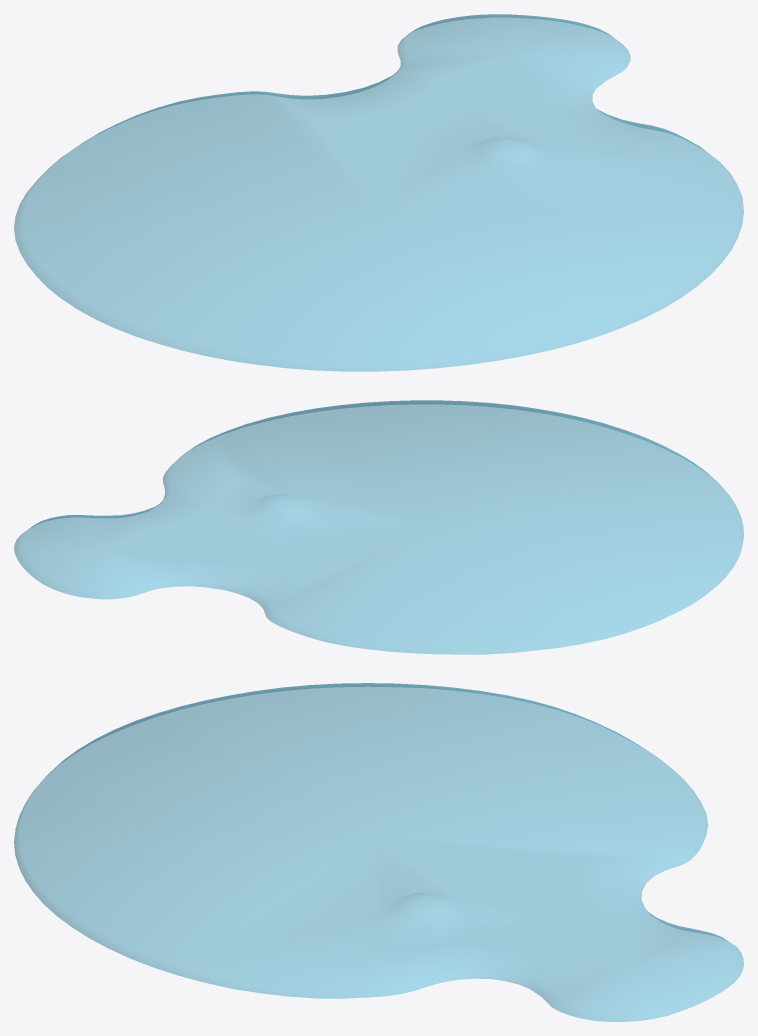
The model's file is IceWater.fbx.
The picture shows the model from 3 angles, top to bottom: view 1: azimuth 30°, elevation 25°; view 2: azimuth 150°, elevation 25°; view 3: azimuth 270°, elevation 25°; orthographic projection. The views are drawn at different scales.
Visible parts, largest first — view 1: IceWater; view 2: IceWater; view 3: IceWater.
Part boxes in pixels (x1,y1,x2,y2): IceWater: [14, 14, 743, 371]; IceWater: [14, 400, 743, 654]; IceWater: [14, 683, 743, 1021].
Bounding box in the file's own units: 0.88 × 0.025 × 0.81.
